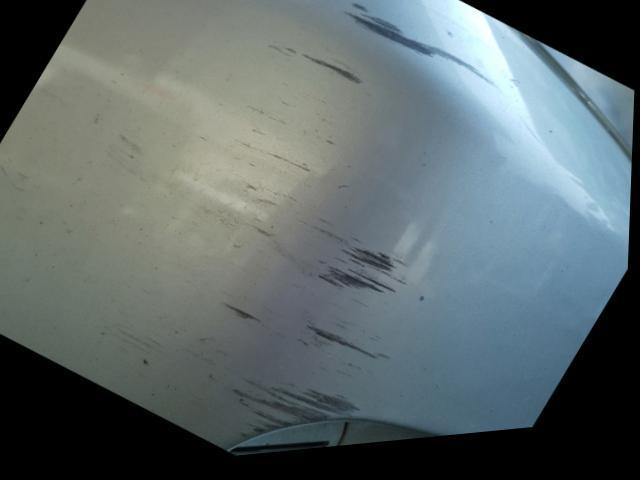scratch: (177, 0, 494, 441)
